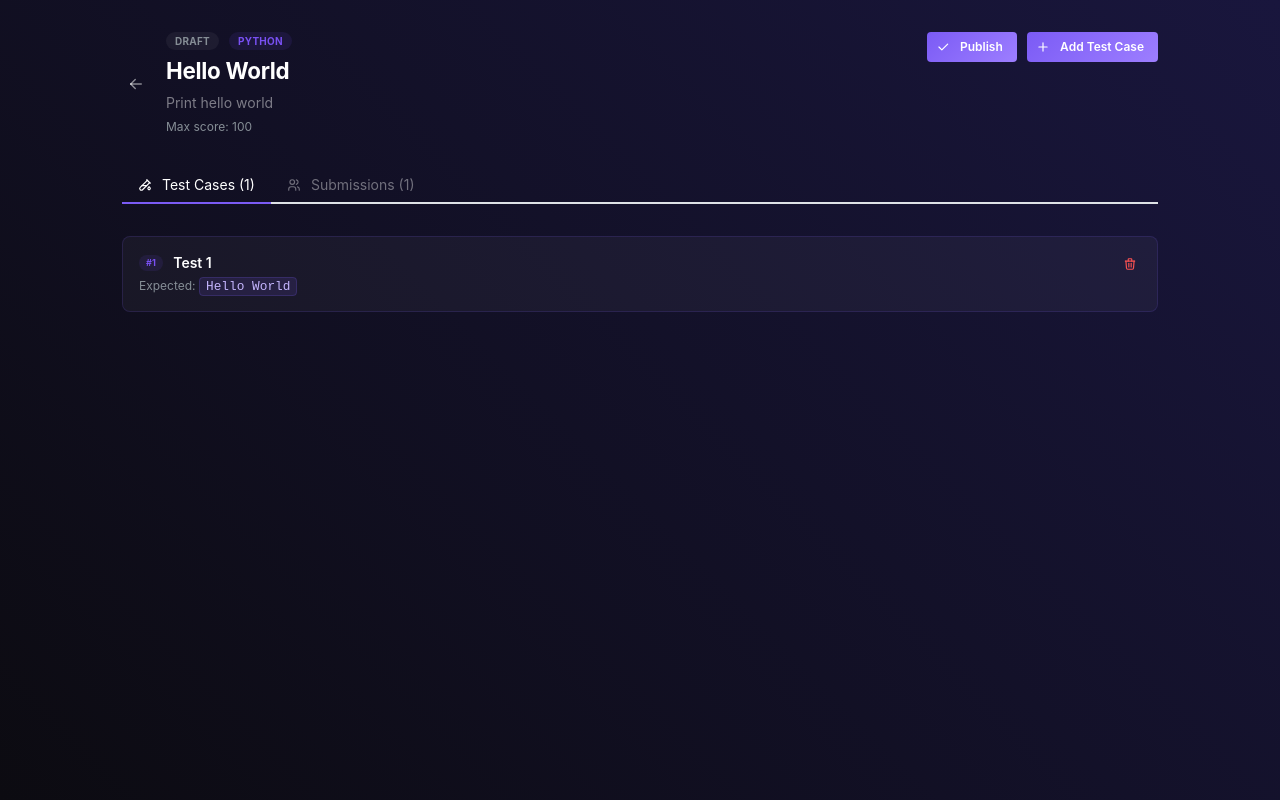
it: TeacherAssignmentPage Component tests › should open Add Test Case modal when button clicked
The image size is (1280, 800).
Click the button "Add Test Case". click: [1092, 47]
box: top-left (1027, 32), bottom-right (1158, 62)
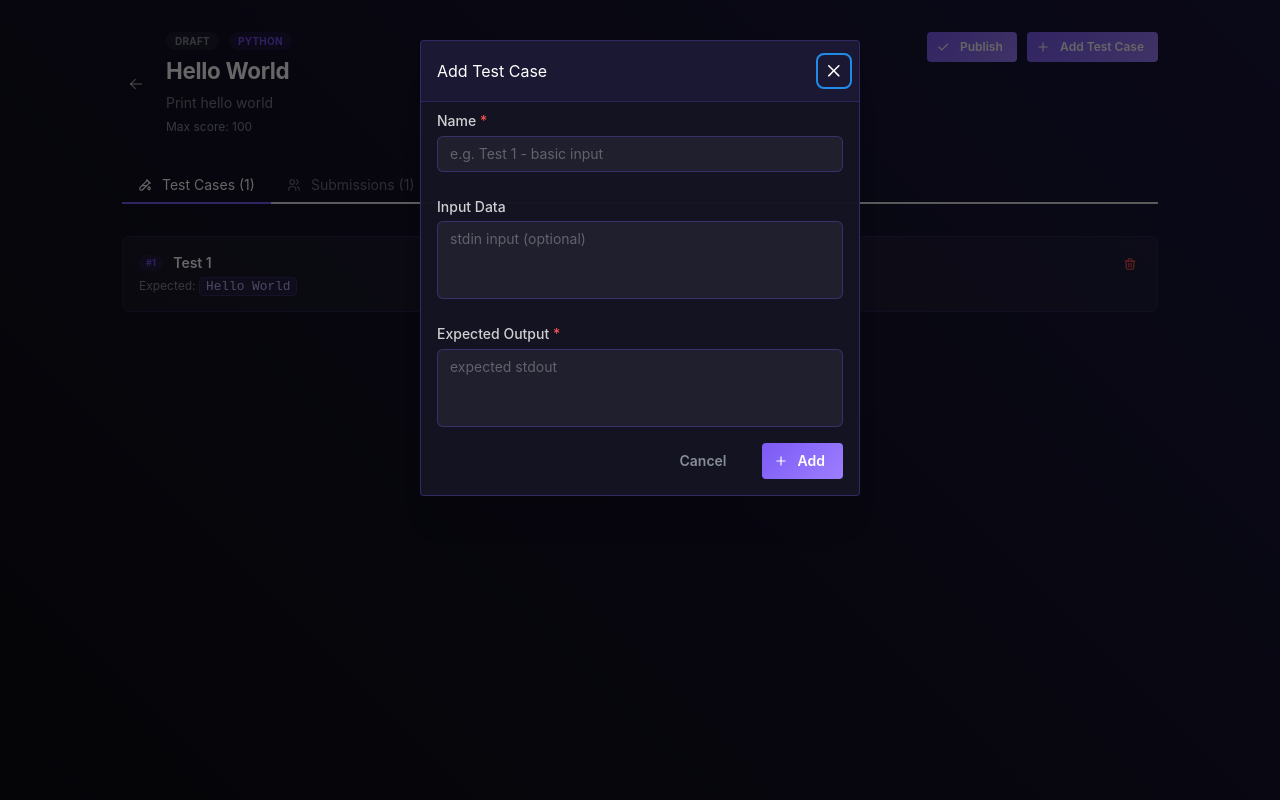
Expected: the dialog is shown, top-left (420, 40), bottom-right (860, 496)
